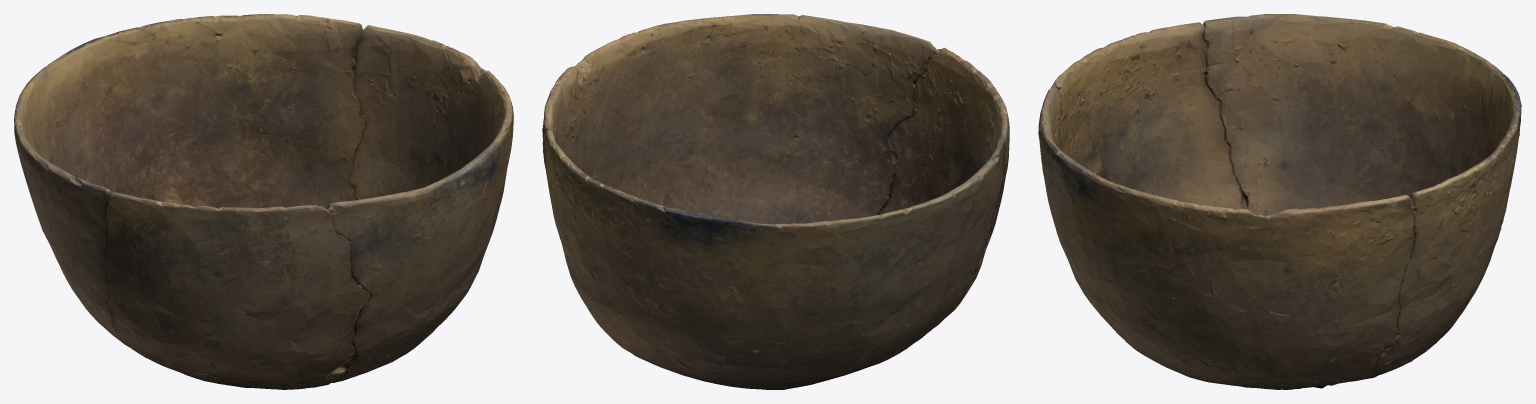
File: Objeto_04_4k-c.glb
3 renders of one model, left to right at view 1: azimuth 30°, elevation 25°; view 2: azimuth 150°, elevation 25°; view 3: azimuth 270°, elevation 25°, orthographic. The views are drawn at different scales.
Parts seen in each view (by area): view 1: Mesh_0; view 2: Mesh_0; view 3: Mesh_0.
Part boxes in pixels (x1,y1,x2,y2): Mesh_0: [14, 14, 513, 389]; Mesh_0: [542, 14, 1009, 389]; Mesh_0: [1038, 14, 1521, 389].
Bounding box in the file's own units: 0.2275 × 0.1245 × 0.2249.
Materials: 1 (1 with a texture image).
